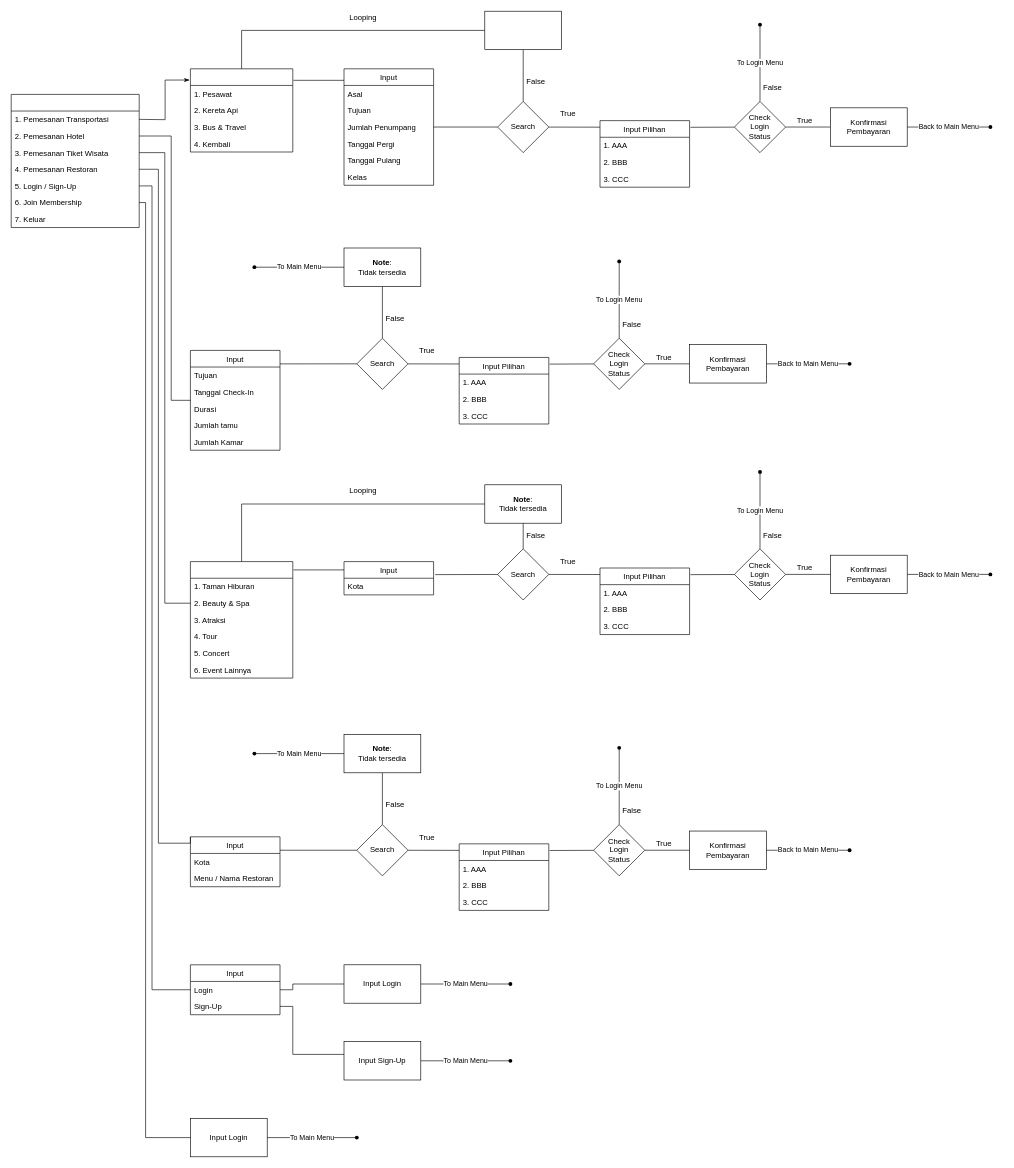
The diagram is 1014 pixels wide and 1168 high, and some of its shapes have lost their labels. The shapes that lost their labels are listed below. From the top down, each one's box as (x1, y1, x2, y2) in pixels, then its label:
(484, 11, 562, 50): Note : Transportasi tidak tersedia
(190, 68, 293, 152): Menu Jenis Transportasi
(11, 94, 139, 228): Main Menu
(190, 561, 293, 678): Menu Jenis Wisata
